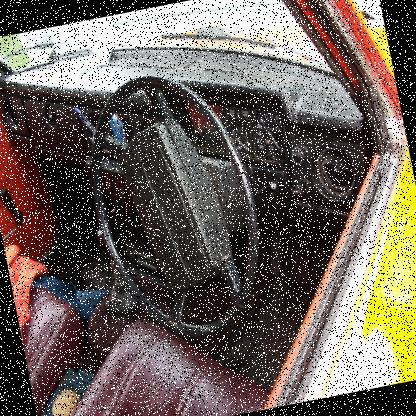Car: (0, 0, 415, 415), (22, 0, 380, 73)
